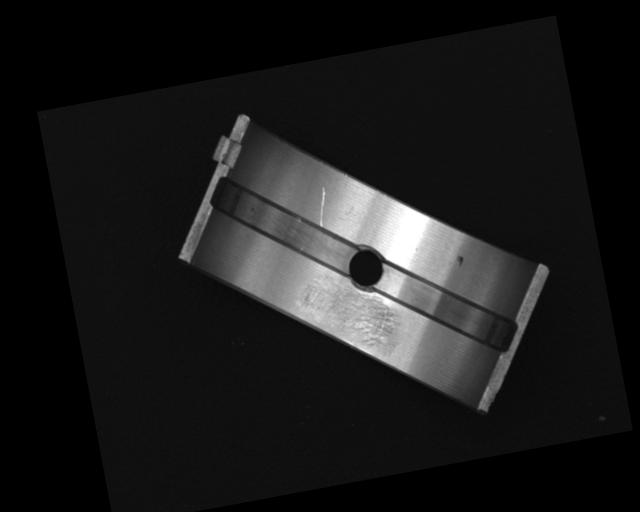bruise: (455, 253, 465, 268)
gap: (209, 162, 364, 289), (375, 246, 521, 369)
hole: (343, 244, 389, 291)
nick: (313, 185, 330, 227)
scratch: (293, 262, 400, 358)
